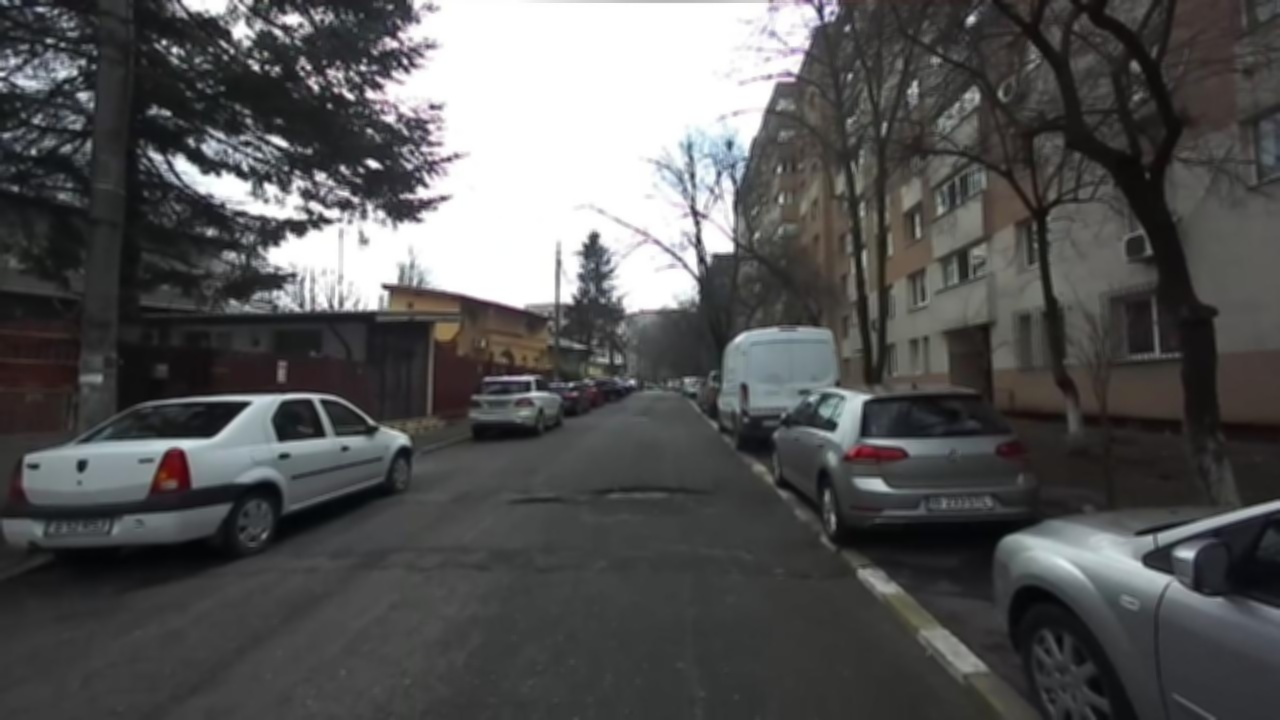pothole: (591, 482, 715, 501), (504, 492, 585, 505)
